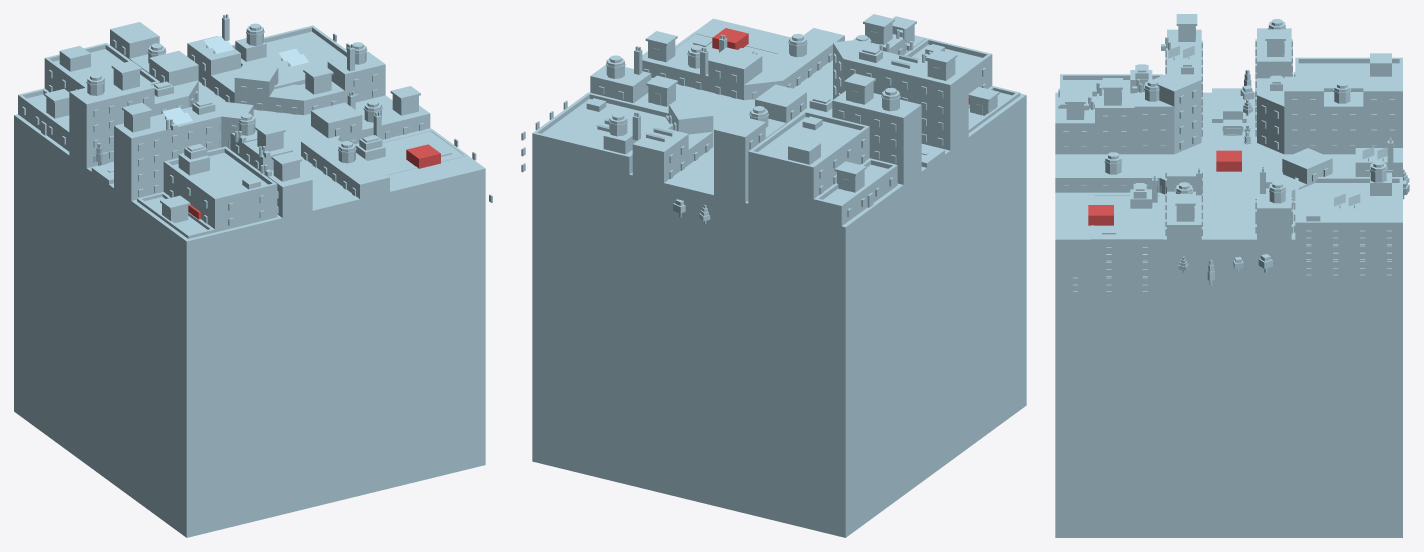
The model's file is block_17_sewersystem_100.glb.
The picture shows the model from 3 angles, left to right: view 1: azimuth 30°, elevation 25°; view 2: azimuth 150°, elevation 25°; view 3: azimuth 270°, elevation 25°; orthographic projection. The views are drawn at different scales.
Parts seen in each view (by area): view 1: Patch_MidRight_b15_SL, Cerda_MidRight_b15_SL, Insets_MidRight_b15_SL, CerdaRoofProps_MidRight_b15_SL, SL_Net_17; view 2: Patch_MidRight_b15_SL, Cerda_MidRight_b15_SL, Insets_MidRight_b15_SL, CerdaRoofProps_MidRight_b15_SL; view 3: Patch_MidRight_b15_SL, Cerda_MidRight_b15_SL, Insets_MidRight_b15_SL, CerdaRoofProps_MidRight_b15_SL, SL_Net_17, Asset_Truck.009_SL, Roads_MidRight_b15_SL.
Part boxes in pixels (x1,y1,x2,y2): Patch_MidRight_b15_SL: (14,81,485,537); Cerda_MidRight_b15_SL: (69,22,430,250); Insets_MidRight_b15_SL: (18,25,492,238); CerdaRoofProps_MidRight_b15_SL: (44,14,420,222); SL_Net_17: (188,144,440,219); Patch_MidRight_b15_SL: (532,18,1026,537); Cerda_MidRight_b15_SL: (590,28,968,233); Insets_MidRight_b15_SL: (521,32,1020,236); CerdaRoofProps_MidRight_b15_SL: (595,14,999,192); Patch_MidRight_b15_SL: (1055,92,1402,537); Cerda_MidRight_b15_SL: (1055,28,1402,289); Insets_MidRight_b15_SL: (1058,53,1402,291); CerdaRoofProps_MidRight_b15_SL: (1065,14,1393,221); SL_Net_17: (1088,150,1241,225); Asset_Truck.009_SL: (1222,96,1243,135); Roads_MidRight_b15_SL: (1212,88,1246,289).
Size of the model in its own units: 10 by 11.5 by 9.68.
